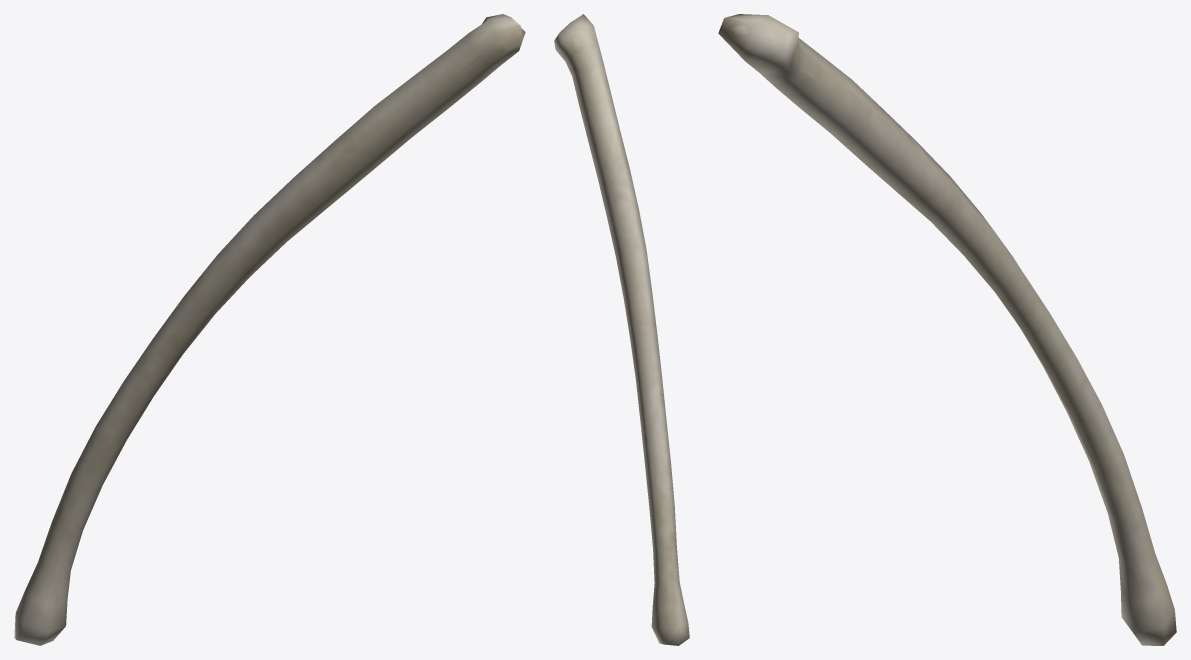
Rendered from Rib R09.fbx.
3 views of the same model, side by side, from view 1: azimuth 30°, elevation 25°; view 2: azimuth 150°, elevation 25°; view 3: azimuth 270°, elevation 25° (orthographic). The views are drawn at different scales.
Visible parts, largest first — view 1: Rib R09 low, Rib R09; view 2: Rib R09 low, Rib R09; view 3: Rib R09 low, Rib R09.
Part boxes in pixels (x1,y1,x2,y2): Rib R09 low: (14, 14, 525, 645); Rib R09: (23, 31, 505, 610); Rib R09 low: (554, 14, 689, 645); Rib R09: (566, 34, 682, 618); Rib R09 low: (718, 14, 1176, 645); Rib R09: (730, 25, 1166, 638).
Size of the model in its own units: 2.94 by 5.54 by 2.88.
Materials: 1 (1 with a texture image).
